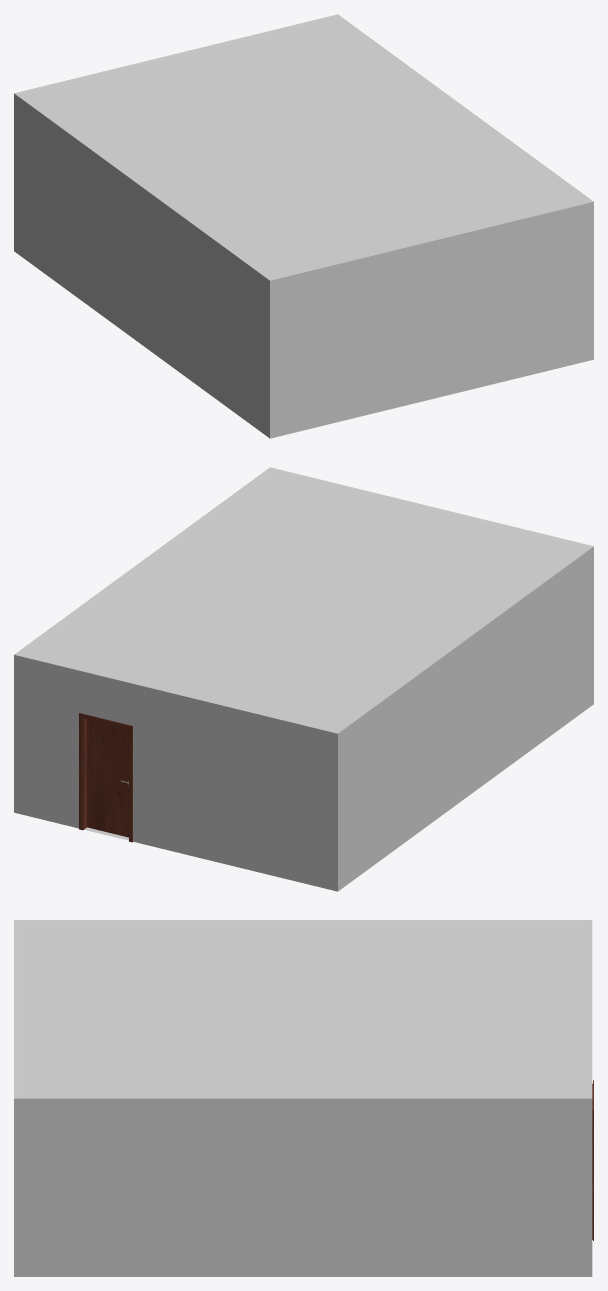
Rendered from pareti_porta.fbx.
The picture shows the model from 3 angles, top to bottom: view 1: azimuth 30°, elevation 25°; view 2: azimuth 150°, elevation 25°; view 3: azimuth 270°, elevation 25°; orthographic projection. The views are drawn at different scales.
Parts seen in each view (by area): view 1: pareti; view 2: pareti, 1_Door, 2_Frame; view 3: pareti.
Part boxes in pixels (left/top/right/bottom): pareti: left=14, top=14, right=593, bottom=438; pareti: left=14, top=467, right=593, bottom=891; 1_Door: left=87, top=719, right=128, bottom=837; 2_Frame: left=79, top=713, right=132, bottom=842; pareti: left=14, top=920, right=592, bottom=1276.
Bounding box in the file's own units: 632 × 295 × 868.
